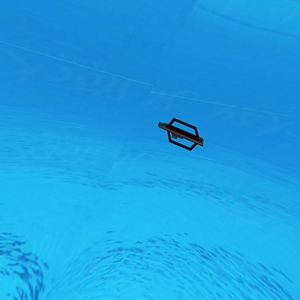submarine: (159, 117, 203, 153)
